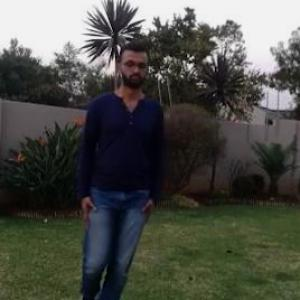follow: (78, 39, 152, 299)
